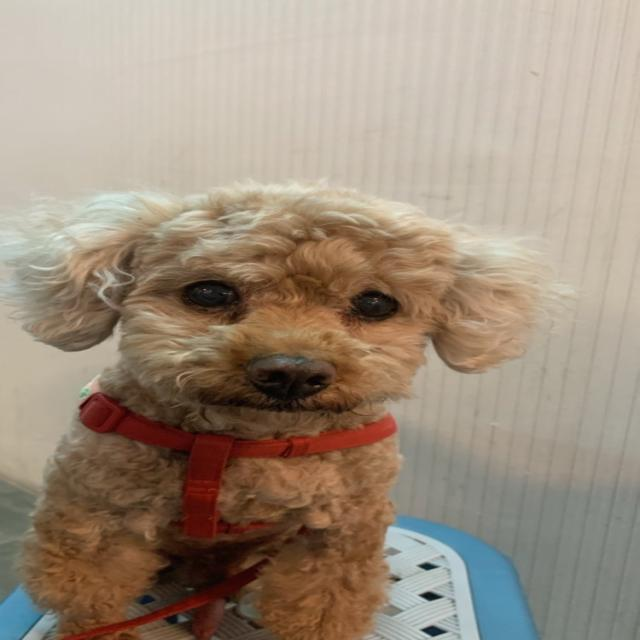adult_dog: (1, 184, 568, 638)
